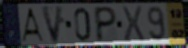0: (73, 6, 92, 43)
9: (146, 6, 167, 43)
A: (20, 7, 45, 43)
P: (95, 6, 118, 44)
V: (40, 5, 66, 45)
X: (120, 5, 146, 44)
